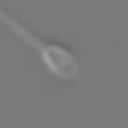normal: (1, 12, 43, 49)
